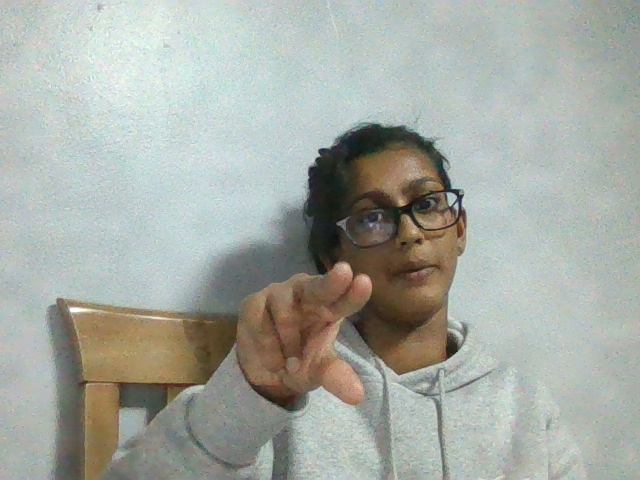No: (233, 259, 381, 415)
